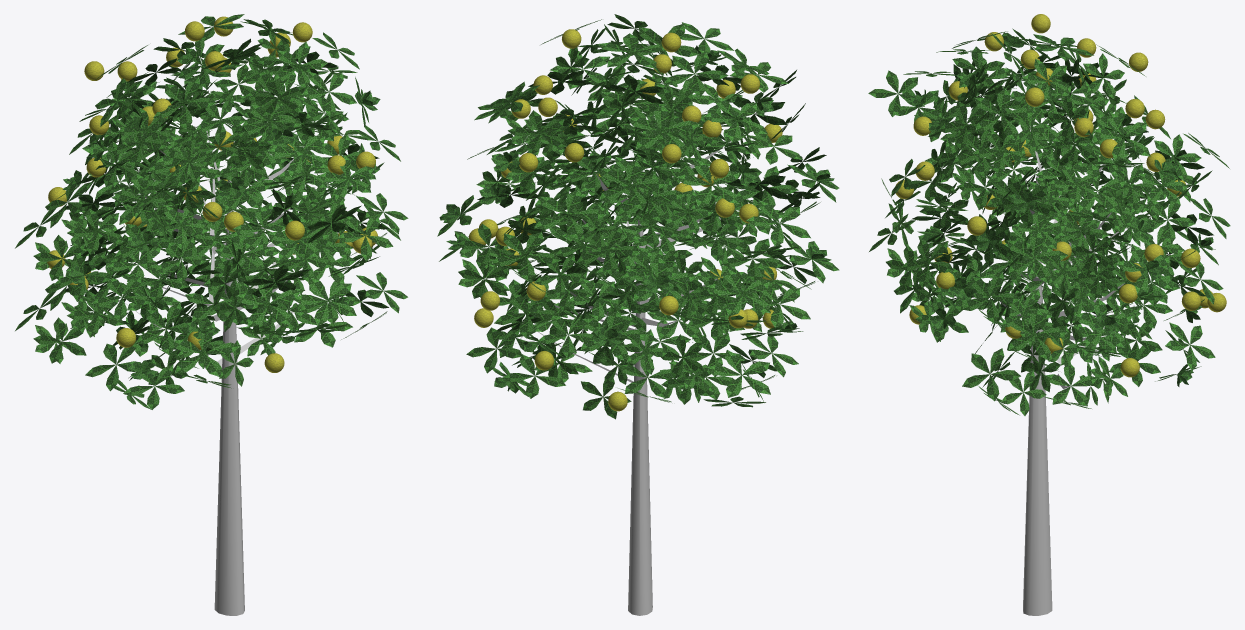
The model's file is three.dae.
3 views of the same model, side by side, from view 1: azimuth 30°, elevation 25°; view 2: azimuth 150°, elevation 25°; view 3: azimuth 270°, elevation 25° (orthographic). The views are drawn at different scales.
Visible parts, largest first — view 1: trunk_3; view 2: trunk_3; view 3: trunk_3.
Part boxes in pixels (x1=…): trunk_3: x1=214, y1=166, x2=244, y2=615; trunk_3: x1=628, y1=171, x2=652, y2=615; trunk_3: x1=1023, y1=176, x2=1052, y2=615.
Size of the model in its own units: 69.13 by 63.08 by 111.
